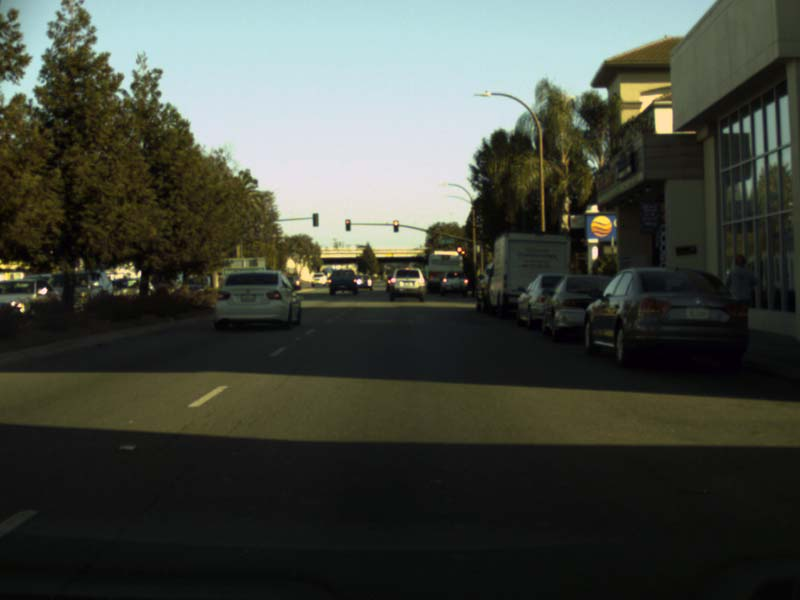Red: (392, 219, 398, 232), (345, 219, 350, 231), (456, 246, 461, 258)
